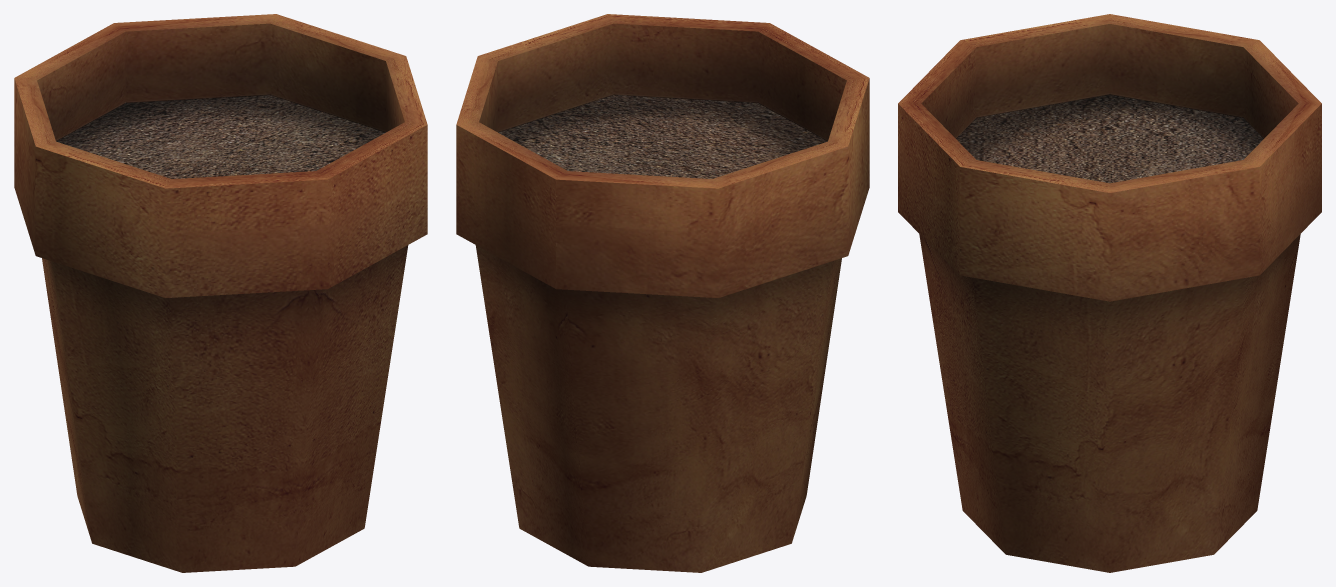
3 views of the same model, side by side, from view 1: azimuth 30°, elevation 25°; view 2: azimuth 150°, elevation 25°; view 3: azimuth 270°, elevation 25° (orthographic).
Parts seen in each view (by area): view 1: _Platpot_2_LOD1; view 2: _Platpot_2_LOD1; view 3: _Platpot_2_LOD1.
Part boxes in pixels (left/top/right/bottom): _Platpot_2_LOD1: left=14, top=14, right=427, bottom=572; _Platpot_2_LOD1: left=456, top=14, right=869, bottom=572; _Platpot_2_LOD1: left=898, top=14, right=1321, bottom=572.
Bounding box in the file's own units: 156 × 166 × 156.
